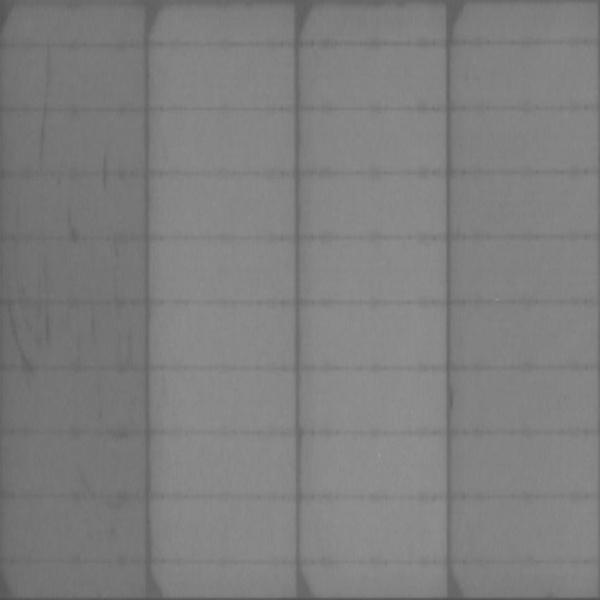scratch: (5, 255, 59, 368), (106, 242, 134, 365), (35, 45, 58, 159), (96, 149, 114, 192)
